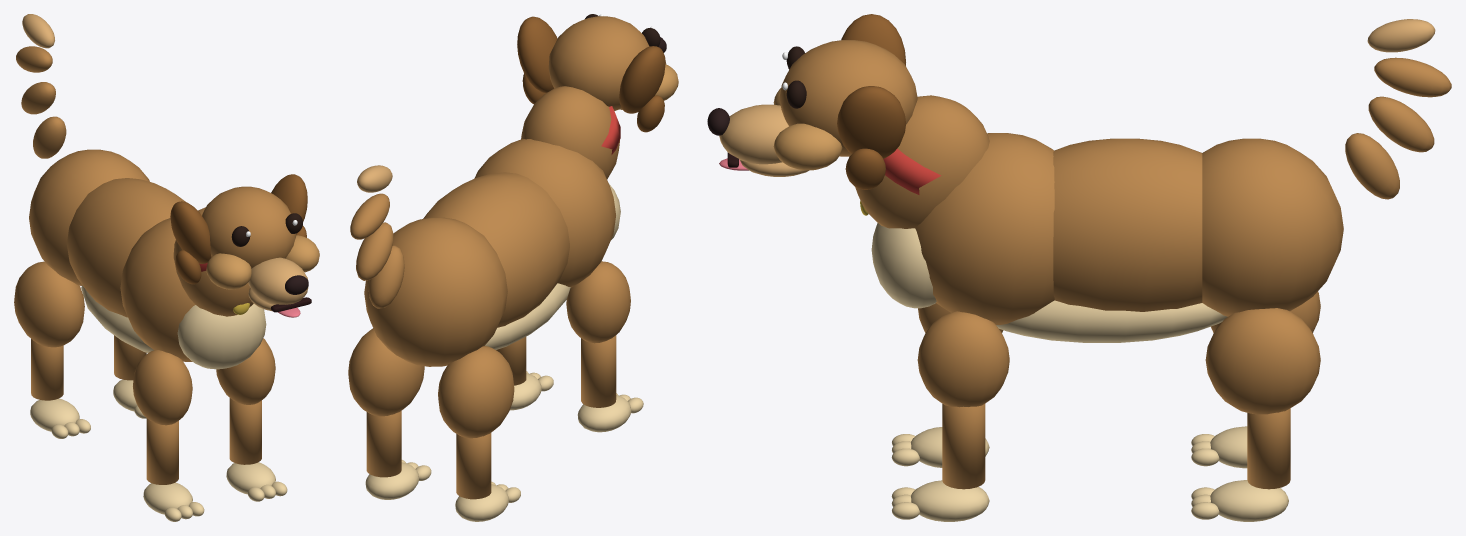
File: dog0.glb
3 renders of one model, left to right at view 1: azimuth 30°, elevation 25°; view 2: azimuth 150°, elevation 25°; view 3: azimuth 270°, elevation 25°, orthographic. The views are drawn at different scales.
Parts seen in each view (by area): view 1: body_b8844a, legBL_b8844a, body_e8d0a0, legFL_b8844a, head_b8844a, legFR_b8844a, head_8a5a2a, tail_b8844a, head_c89658, head_d8aa70, legBL_e8d0a0, legFR_e8d0a0 (+6 smaller); view 2: body_b8844a, legBL_b8844a, legBR_b8844a, legFL_b8844a, head_b8844a, head_8a5a2a, tail_b8844a, body_e8d0a0, legFL_e8d0a0, legBR_e8d0a0, legBL_e8d0a0, legFR_e8d0a0 (+4 smaller); view 3: body_b8844a, legBR_b8844a, legFR_b8844a, body_e8d0a0, head_b8844a, tail_b8844a, head_8a5a2a, head_d8aa70, legBR_e8d0a0, legFR_e8d0a0, head_c89658, legBL_e8d0a0 (+3 smaller).
Boxes of the visible parts, x1=… form: body_b8844a: x1=29, y1=149, x2=253, y2=361; legBL_b8844a: x1=14, y1=261, x2=84, y2=400; body_e8d0a0: x1=81, y1=285, x2=266, y2=369; legFL_b8844a: x1=133, y1=350, x2=192, y2=484; head_b8844a: x1=202, y1=186, x2=296, y2=268; legFR_b8844a: x1=216, y1=338, x2=275, y2=464; head_8a5a2a: x1=170, y1=174, x2=307, y2=284; tail_b8844a: x1=16, y1=46, x2=66, y2=158; head_c89658: x1=206, y1=235, x2=319, y2=289; head_d8aa70: x1=248, y1=257, x2=308, y2=311; legBL_e8d0a0: x1=30, y1=398, x2=90, y2=438; legFR_e8d0a0: x1=226, y1=462, x2=287, y2=501; body_b8844a: x1=364, y1=86, x2=619, y2=366; legBL_b8844a: x1=438, y1=346, x2=514, y2=499; legBR_b8844a: x1=348, y1=328, x2=424, y2=477; legFL_b8844a: x1=566, y1=261, x2=630, y2=407; head_b8844a: x1=548, y1=16, x2=649, y2=110; head_8a5a2a: x1=517, y1=16, x2=665, y2=132; tail_b8844a: x1=350, y1=193, x2=404, y2=308; body_e8d0a0: x1=485, y1=184, x2=620, y2=349; legFL_e8d0a0: x1=577, y1=393, x2=643, y2=432; legBR_e8d0a0: x1=365, y1=460, x2=431, y2=499; legBL_e8d0a0: x1=455, y1=481, x2=520, y2=521; legFR_e8d0a0: x1=510, y1=371, x2=553, y2=410; body_b8844a: x1=855, y1=95, x2=1343, y2=324; legBR_b8844a: x1=1205, y1=308, x2=1320, y2=489; legFR_b8844a: x1=917, y1=311, x2=1009, y2=489; body_e8d0a0: x1=871, y1=223, x2=1227, y2=342; head_b8844a: x1=779, y1=40, x2=917, y2=156; tail_b8844a: x1=1345, y1=57, x2=1451, y2=199; head_8a5a2a: x1=837, y1=14, x2=905, y2=189; head_d8aa70: x1=719, y1=104, x2=809, y2=176; legBR_e8d0a0: x1=1191, y1=480, x2=1288, y2=521; legFR_e8d0a0: x1=891, y1=480, x2=989, y2=521; head_c89658: x1=773, y1=88, x2=842, y2=170; legBL_e8d0a0: x1=1191, y1=426, x2=1247, y2=468.
Bounding box in the file's own units: 0.3677 × 0.9018 × 1.29.
